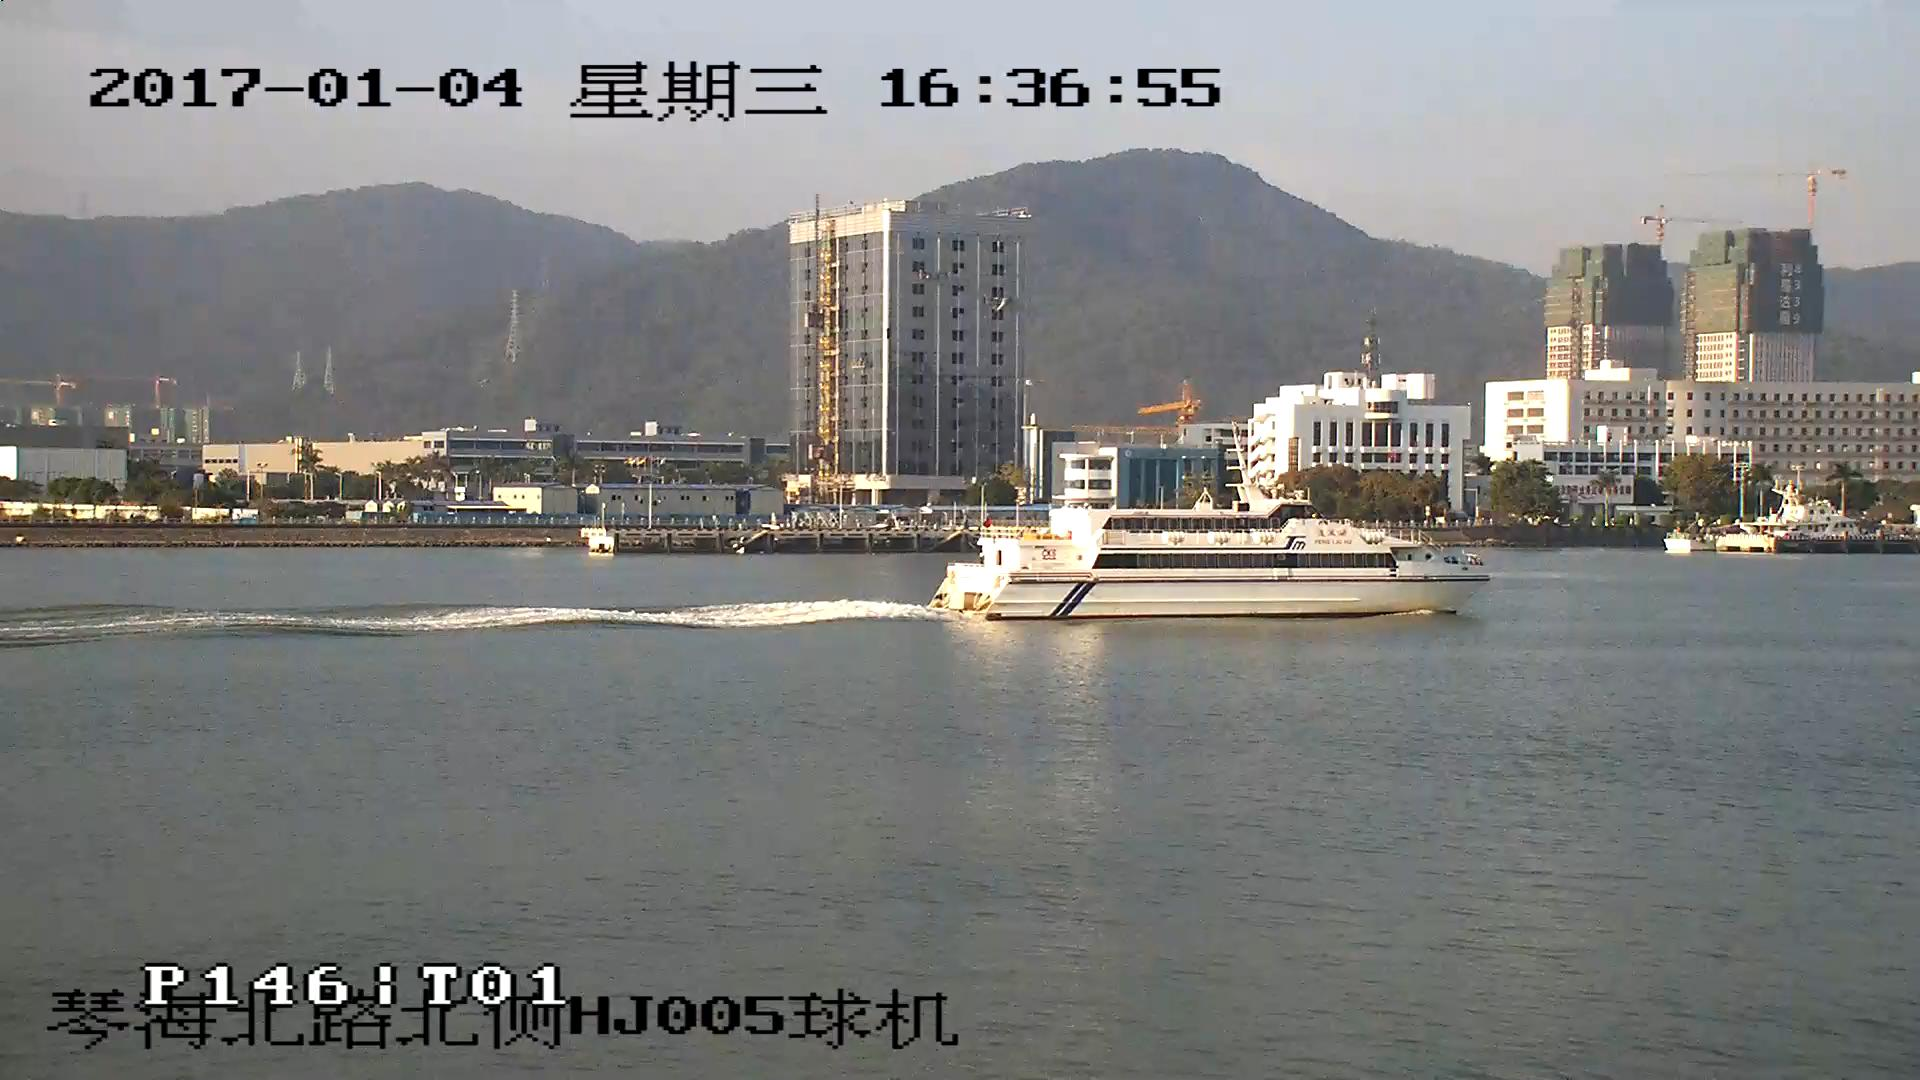passenger ship: (932, 418, 1492, 616)
